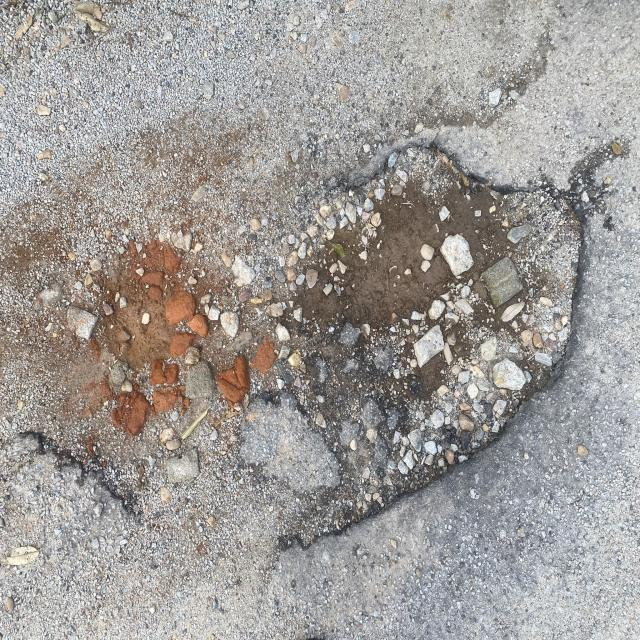Pothole: (11, 140, 640, 570)
